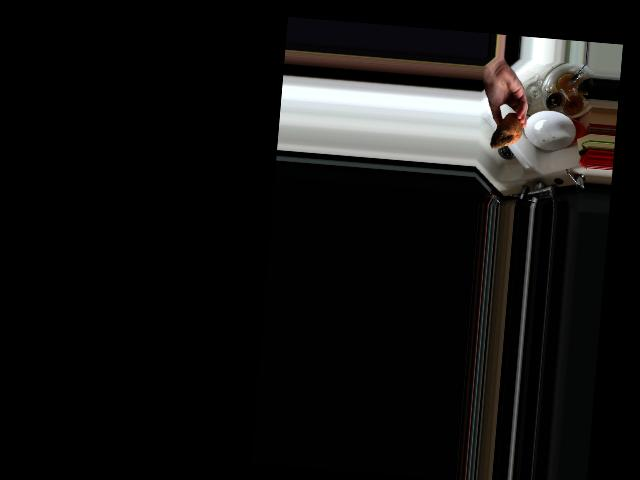sweet_potato: (487, 111, 525, 151)
